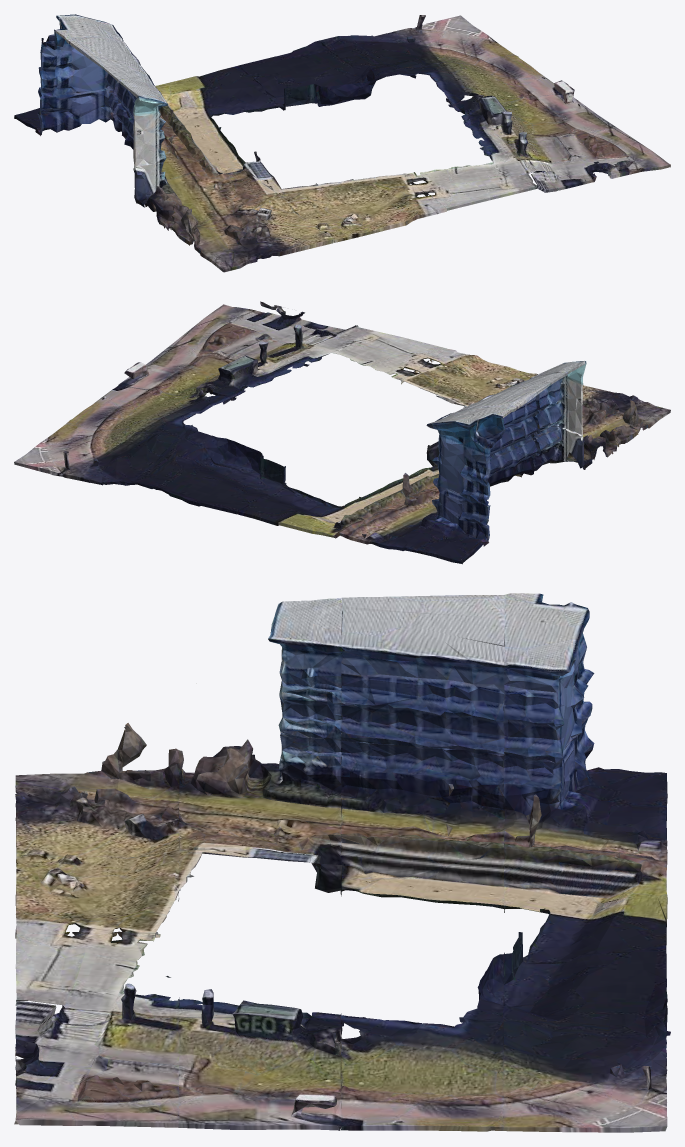
File: ifgi_parts.fbx
3 views of the same model, one above another, from view 1: azimuth 30°, elevation 25°; view 2: azimuth 150°, elevation 25°; view 3: azimuth 270°, elevation 25° (orthographic). The views are drawn at different scales.
Parts seen in each view (by area): view 1: Mesh_0.170.slice @ (-7603 ; 10356.4 ; 371.426) (×2), Mesh_0.189.slice @ (-7609.41 ; 10329.6 ; -3386.7) (×2), Mesh_0.193.slice @ (-2931.45 ; 10342.4 ; -3437.74), Mesh_0.175.slice @ (-2926.99 ; 10437.4 ; 378.346).slice @ (- (×2), Mesh_0.175.slice @ (-627.692 ; 9910.02 ; -132.44), Mesh_0.189.slice @ (-7609.41 ; 10365.8 ; -3386.7); view 2: Mesh_0.189.slice @ (-7609.41 ; 10329.6 ; -3386.7) (×2), Mesh_0.193.slice @ (-2931.45 ; 10342.4 ; -3437.74), Mesh_0.170.slice @ (-7603 ; 10356.4 ; 371.426) (×2), Mesh_0.175.slice @ (-2926.99 ; 10437.4 ; 378.346).slice @ (- (×2), Mesh_0.175.slice @ (-627.692 ; 9910.02 ; -132.44), Mesh_0.189.slice @ (-7609.41 ; 10365.8 ; -3386.7); view 3: Mesh_0.189.slice @ (-7609.41 ; 10329.6 ; -3386.7) (×2), Mesh_0.170.slice @ (-7603 ; 10356.4 ; 371.426) (×2), Mesh_0.193.slice @ (-2931.45 ; 10342.4 ; -3437.74), Mesh_0.175.slice @ (-2926.99 ; 10437.4 ; 378.346).slice @ (- (×2), Mesh_0.175.slice @ (-627.692 ; 9910.02 ; -132.44), Mesh_0.189.slice @ (-7609.41 ; 10365.8 ; -3386.7).
Part boxes in pixels (x1,y1,x2,y2): Mesh_0.170.slice @ (-7603 ; 10356.4 ; 371.426) (×2): [118, 78, 446, 272]; Mesh_0.189.slice @ (-7609.41 ; 10329.6 ; -3386.7) (×2): [14, 14, 272, 179]; Mesh_0.193.slice @ (-2931.45 ; 10342.4 ; -3437.74): [238, 15, 559, 110]; Mesh_0.175.slice @ (-2926.99 ; 10437.4 ; 378.346).slice @ (- (×2): [402, 82, 670, 210]; Mesh_0.175.slice @ (-627.692 ; 9910.02 ; -132.44): [457, 80, 630, 176]; Mesh_0.189.slice @ (-7609.41 ; 10365.8 ; -3386.7): [170, 95, 285, 172]; Mesh_0.189.slice @ (-7609.41 ; 10329.6 ; -3386.7) (×2): [238, 372, 566, 564]; Mesh_0.193.slice @ (-2931.45 ; 10342.4 ; -3437.74): [14, 385, 285, 514]; Mesh_0.170.slice @ (-7603 ; 10356.4 ; 371.426) (×2): [401, 348, 670, 477]; Mesh_0.175.slice @ (-2926.99 ; 10437.4 ; 378.346).slice @ (- (×2): [118, 301, 446, 400]; Mesh_0.175.slice @ (-627.692 ; 9910.02 ; -132.44): [119, 312, 349, 396]; Mesh_0.189.slice @ (-7609.41 ; 10365.8 ; -3386.7): [271, 464, 439, 518]; Mesh_0.189.slice @ (-7609.41 ; 10329.6 ; -3386.7) (×2): [340, 593, 667, 963]; Mesh_0.170.slice @ (-7603 ; 10356.4 ; 371.426) (×2): [15, 598, 342, 938]; Mesh_0.193.slice @ (-2931.45 ; 10342.4 ; -3437.74): [340, 932, 670, 1132]; Mesh_0.175.slice @ (-2926.99 ; 10437.4 ; 378.346).slice @ (- (×2): [14, 931, 341, 1130]; Mesh_0.175.slice @ (-627.692 ; 9910.02 ; -132.44): [29, 976, 342, 1126]; Mesh_0.189.slice @ (-7609.41 ; 10365.8 ; -3386.7): [340, 868, 617, 963].
Size of the model in its own units: 9474 by 2701 by 7720.
Materials: 8 (8 with a texture image).
